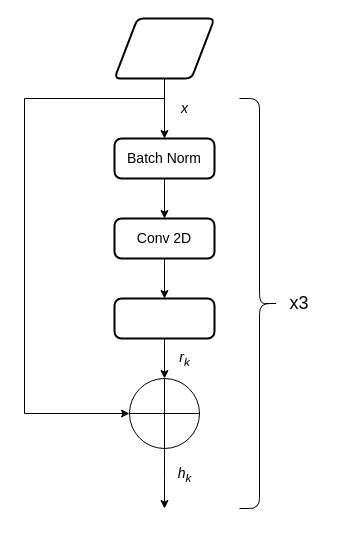
Image size: 337x534. Some labels were removed from this diagram. Here are the shapes that lost their labels. From the top down, the centre of each, then its label:
At [164,48]: "Images".
At [164,318]: "Leaky ReLU".
